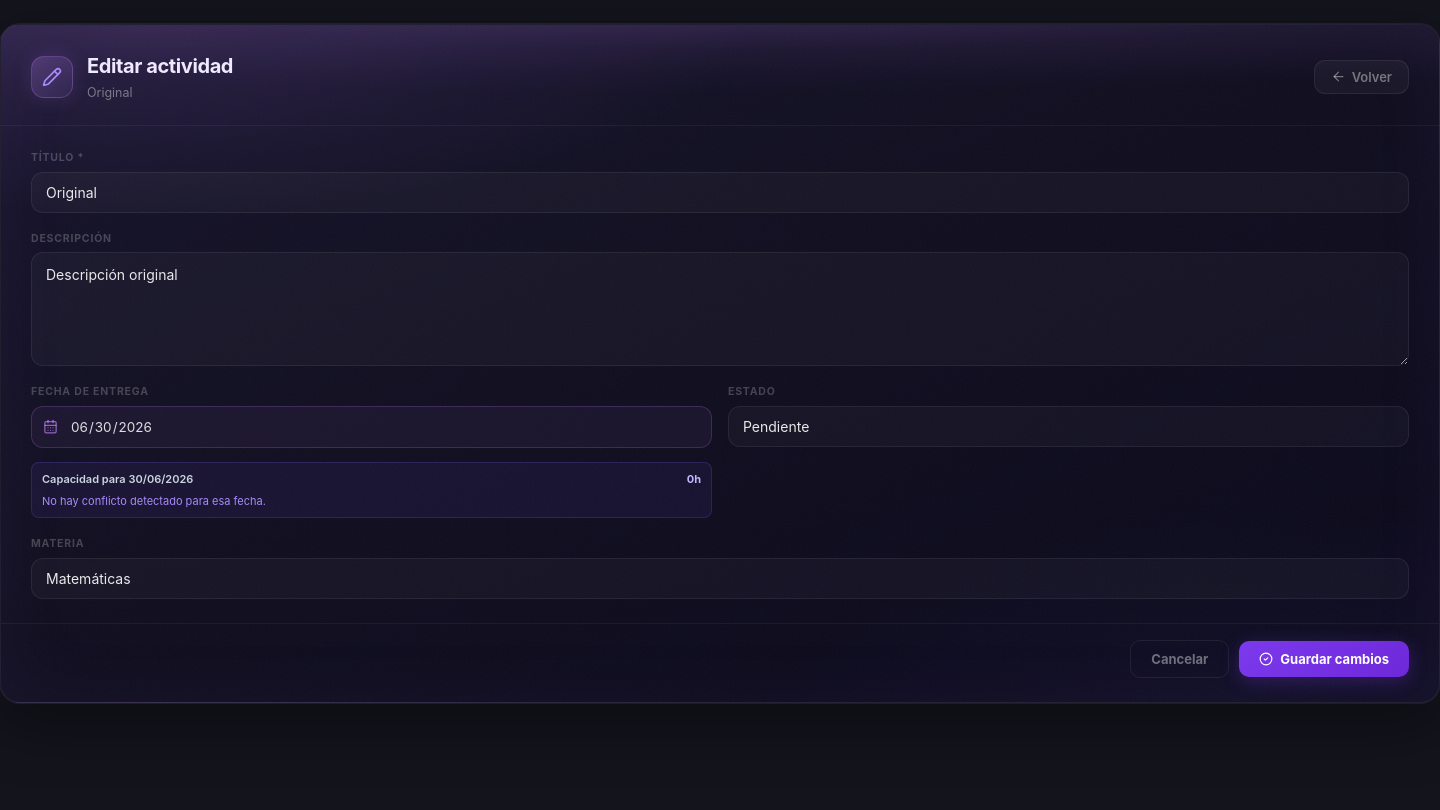
Scenario: EditActivityView — formulario › muestra un error si el guardado falla
Click the button with test id "edit-activity-save-btn": click(1324, 659) [1239,641,1409,677]
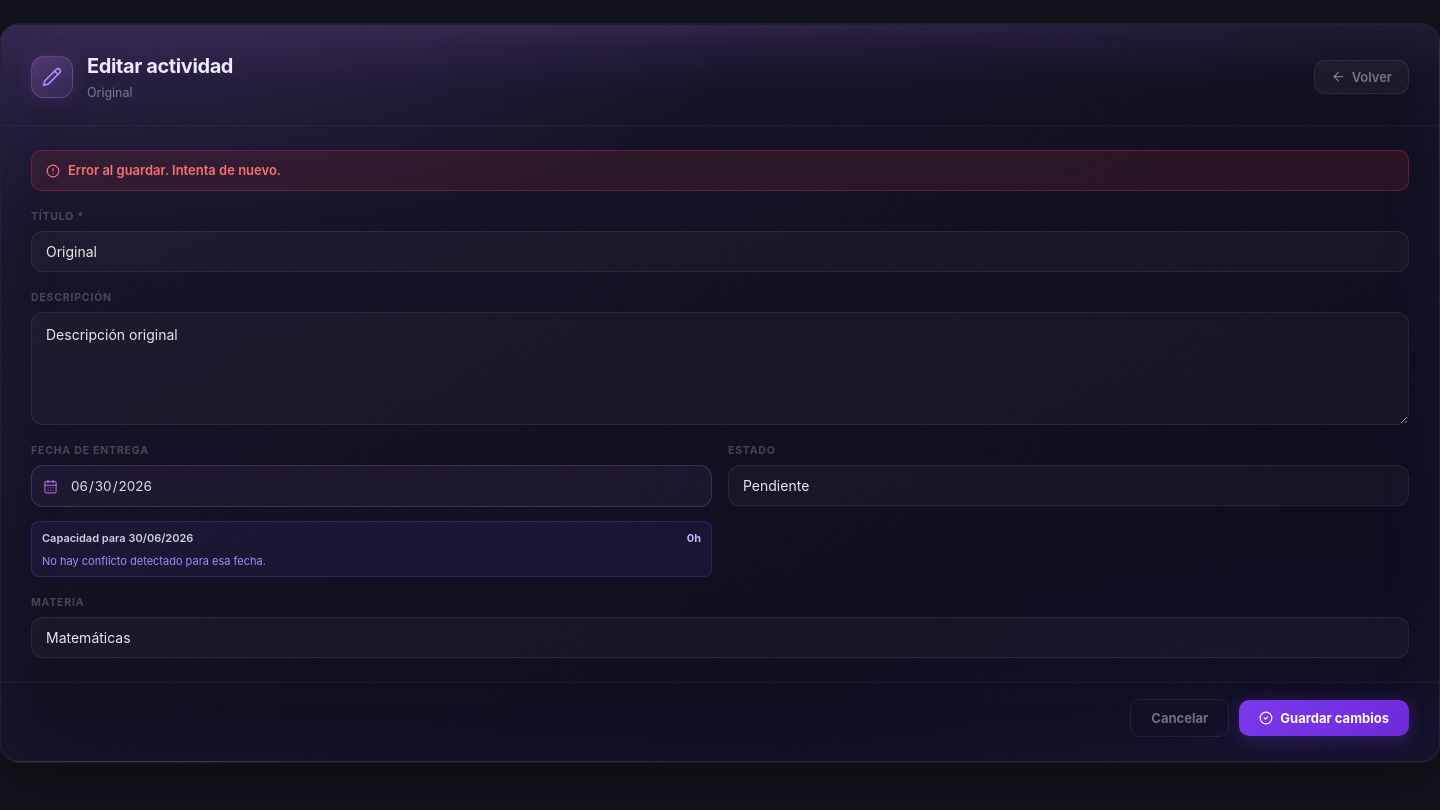
Check: the element with test id "edit-activity-error" is shown, box [31,150,1409,191]
